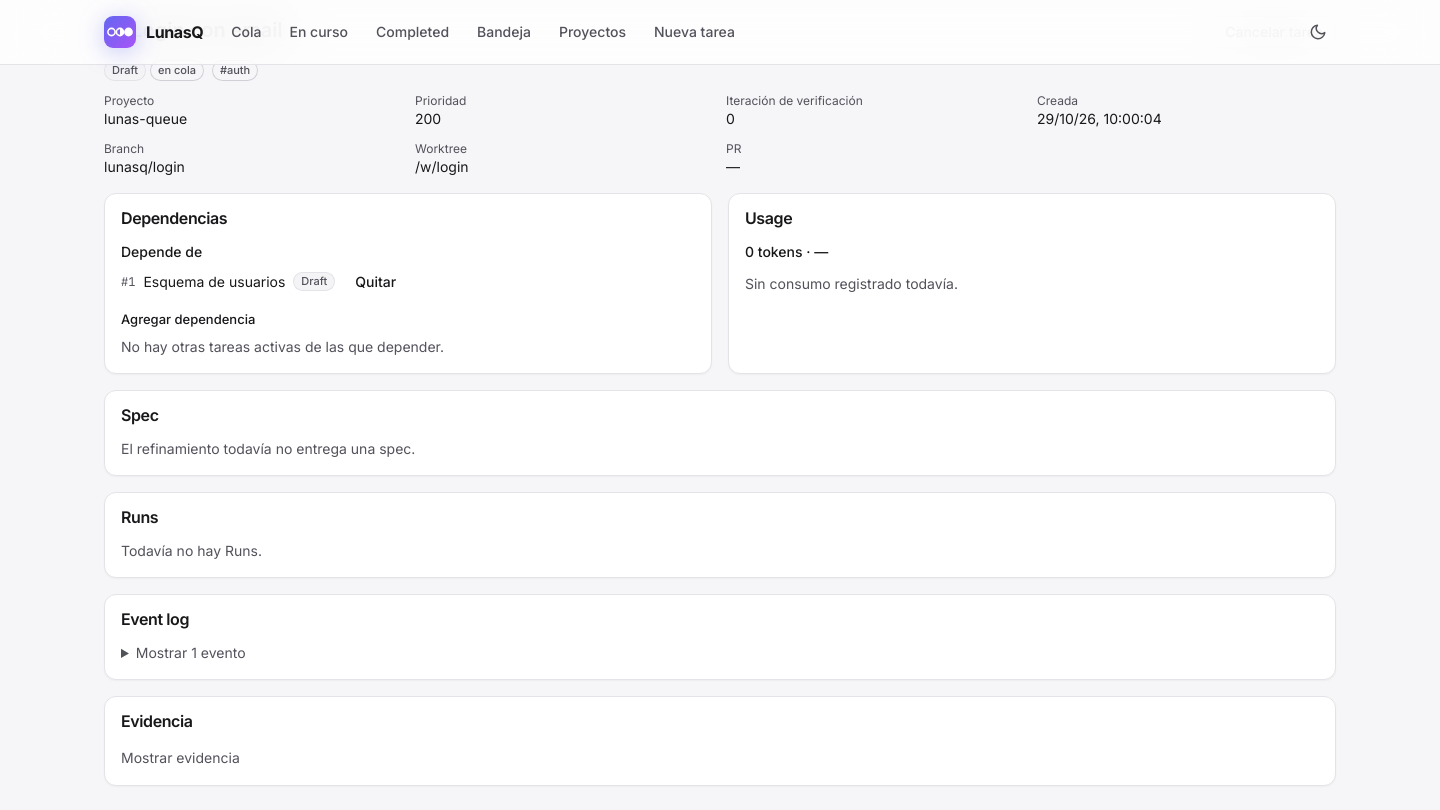
Test: detalle de tarea › colapsar de nuevo el panel Evidencia oculta la evidencia
(page scrolled)
Click the button "Mostrar evidencia" at x=180, y=758, box left=121, top=748, right=240, bottom=768
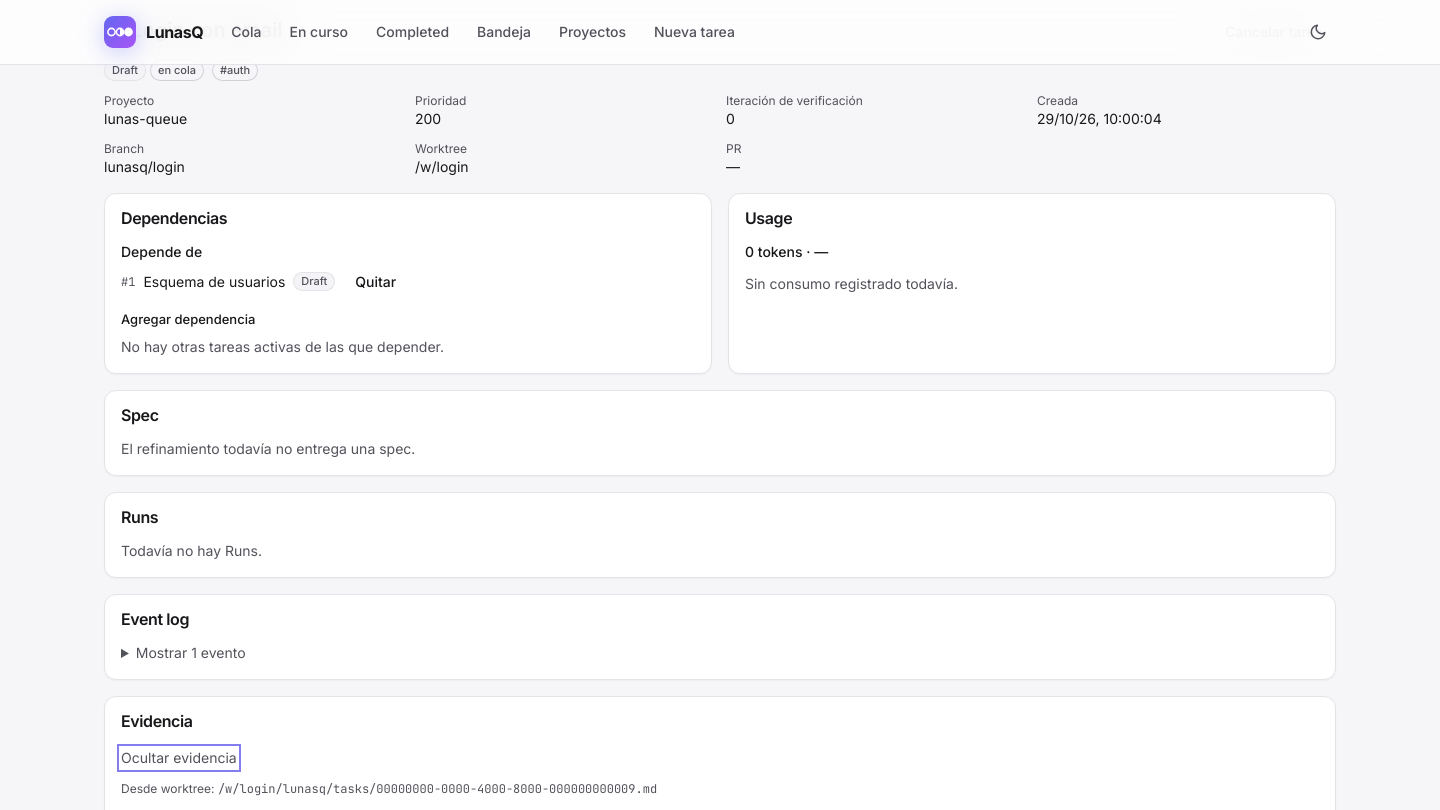
Click the button named "Mostrar evidencia" at x=179, y=758, box left=121, top=748, right=237, bottom=768
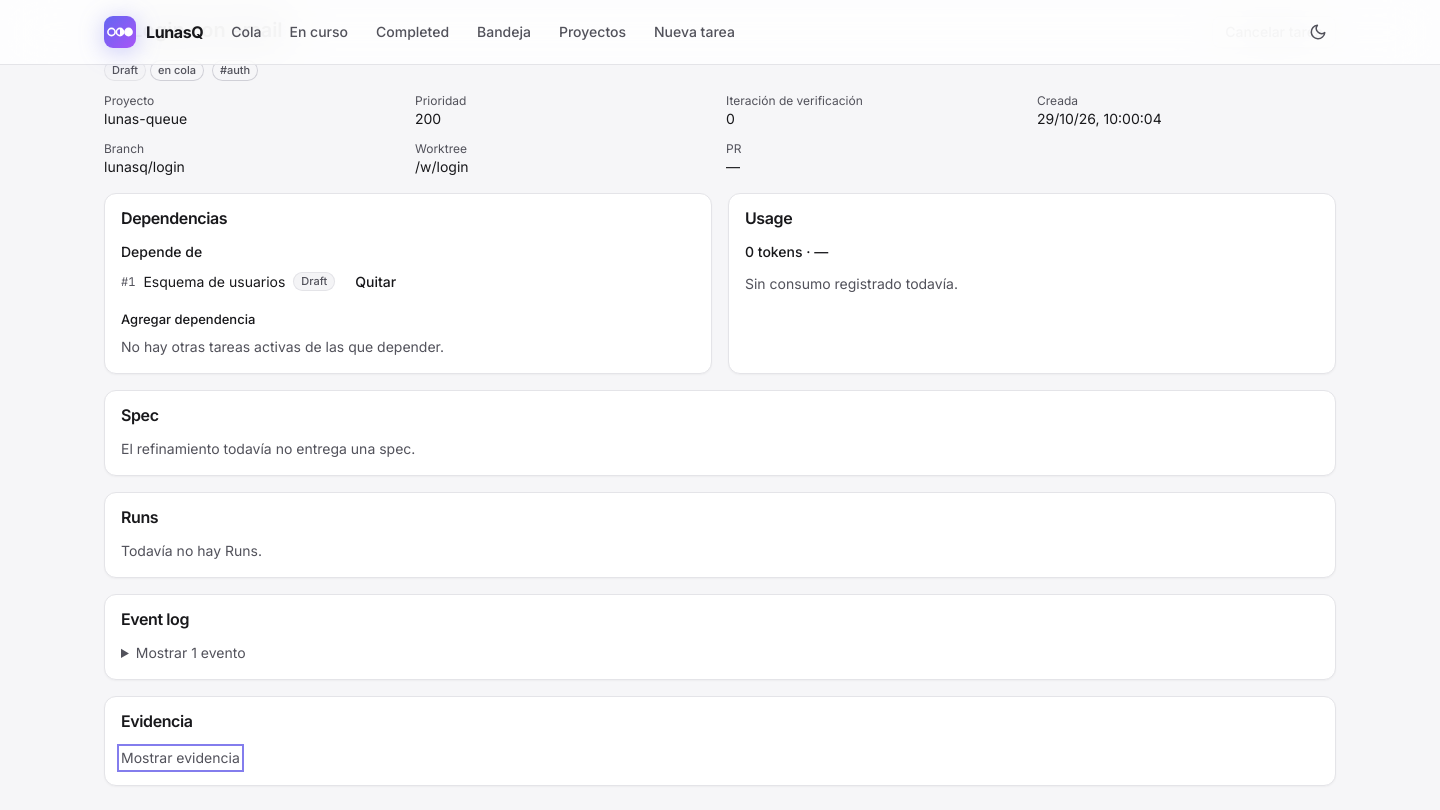
Expected: the element "Evidencia" is shown, left=104, top=696, right=1336, bottom=786
Result: the button "Mostrar evidencia" is collapsed at left=121, top=748, right=240, bottom=768
